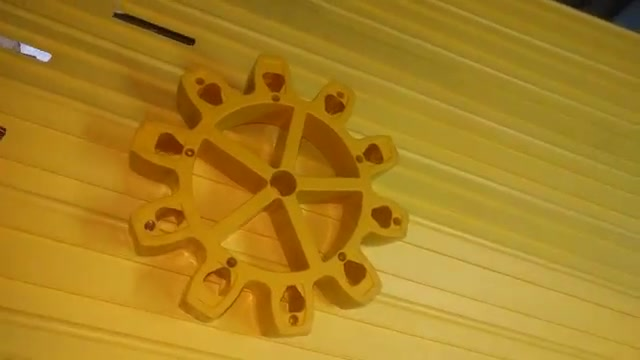gear: (114, 27, 418, 348)
